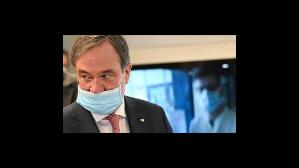mask_weared_incorrect: (77, 61, 123, 111)
with_mask: (194, 81, 224, 112)
